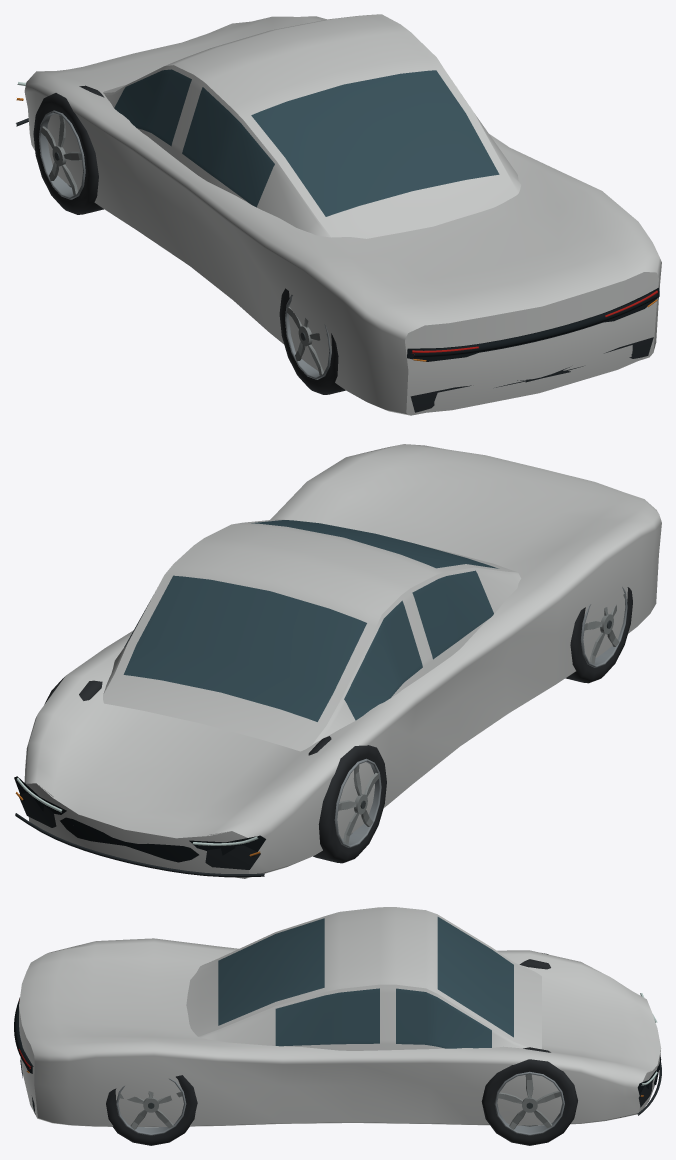
File: corsa-z-lod.glb
3 renders of one model, top to bottom at view 1: azimuth 30°, elevation 25°; view 2: azimuth 150°, elevation 25°; view 3: azimuth 270°, elevation 25°, orthographic. The views are drawn at different scales.
Parts seen in each view (by area): view 1: paint, glass, wheelSurface (×2), trim; view 2: paint, glass, wheelSurface (×2), trim; view 3: paint, glass, wheelSurface (×2), trim.
Part boxes in pixels (x1,y1,x2,y2): paint: (24,14,661,415); glass: (114,69,499,216); wheelSurface (×2): (33,85,345,394); trim: (16,118,659,412); paint: (24,444,661,878); glass: (123,520,498,721); wheelSurface (×2): (308,587,632,863); trim: (14,776,265,877); paint: (19,907,661,1127); glass: (218,917,513,1048); wheelSurface (×2): (106,1047,577,1145); trim: (14,997,661,1115).
Size of the model in its own units: 1.96 by 1.22 by 4.65.
